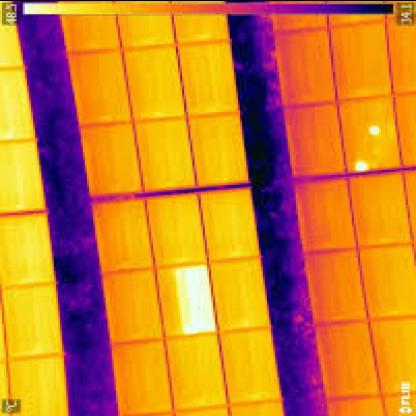Defects: (184, 263, 209, 334), (350, 159, 370, 171), (368, 122, 378, 136)
